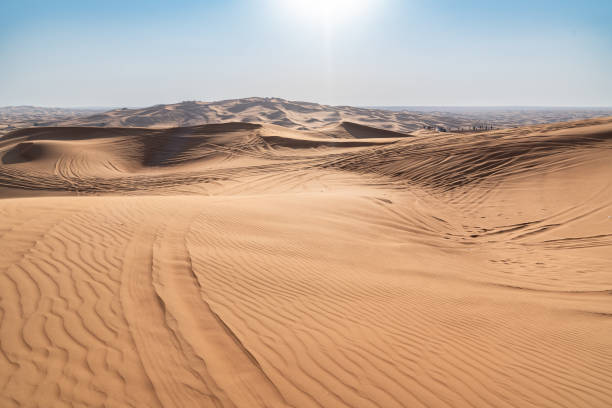vehicle_track: (158, 210, 282, 407), (107, 200, 213, 407), (399, 142, 519, 210), (52, 148, 192, 195)
